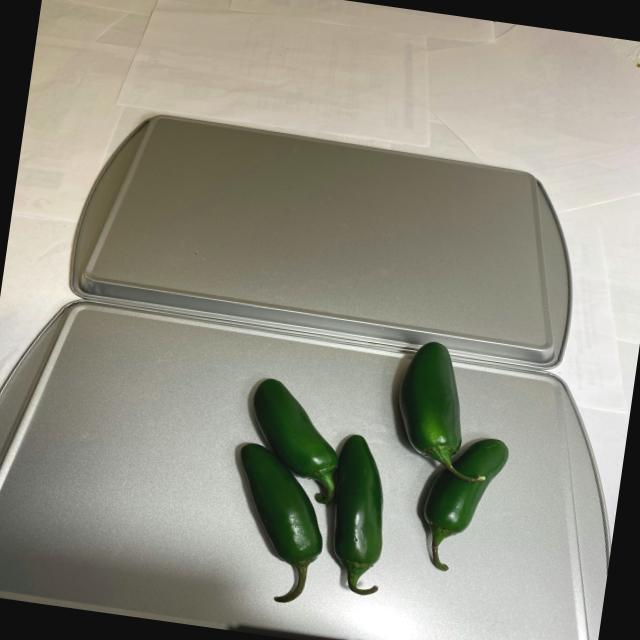chilli: (214, 312, 526, 636)
